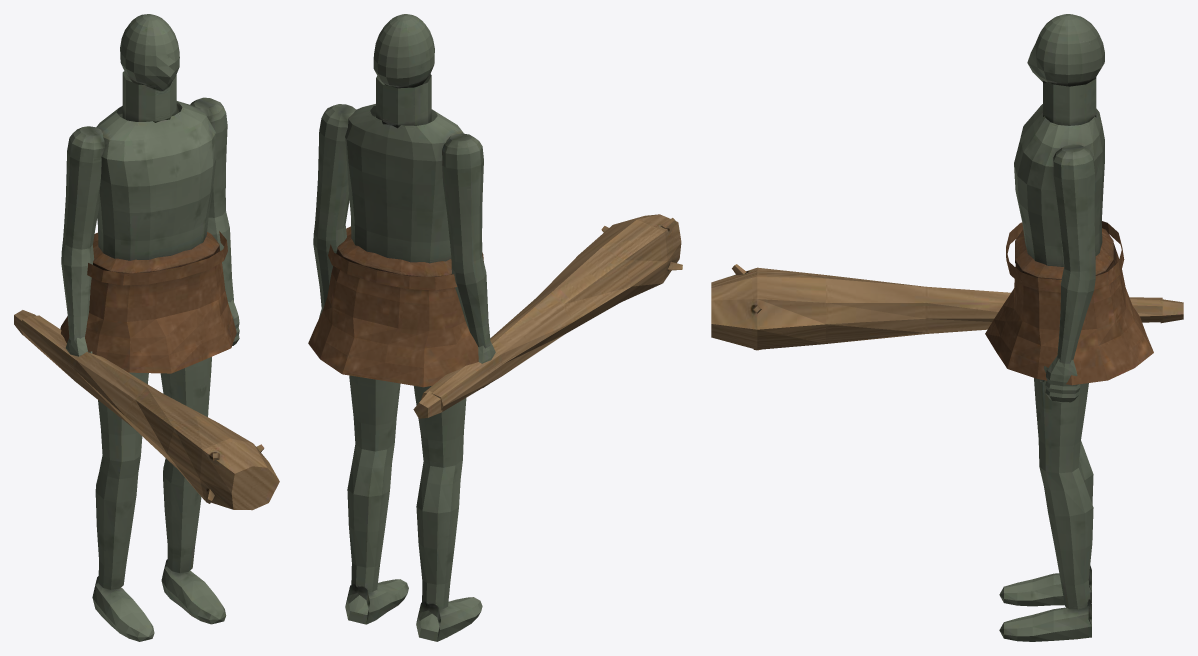
The model's file is trolls.glb.
3 renders of one model, left to right at view 1: azimuth 30°, elevation 25°; view 2: azimuth 150°, elevation 25°; view 3: azimuth 270°, elevation 25°, orthographic. The views are drawn at different scales.
Parts seen in each view (by area): view 1: trolls_LOD0; view 2: trolls_LOD0; view 3: trolls_LOD0.
Part boxes in pixels (box(x1,y1,x2,y2)): trolls_LOD0: box(14, 14, 279, 641); trolls_LOD0: box(308, 14, 682, 641); trolls_LOD0: box(711, 14, 1183, 641).
Size of what is drawn, in the model's own units: 0.5886 by 1.74 by 1.24.
1 material, 1 textured.
